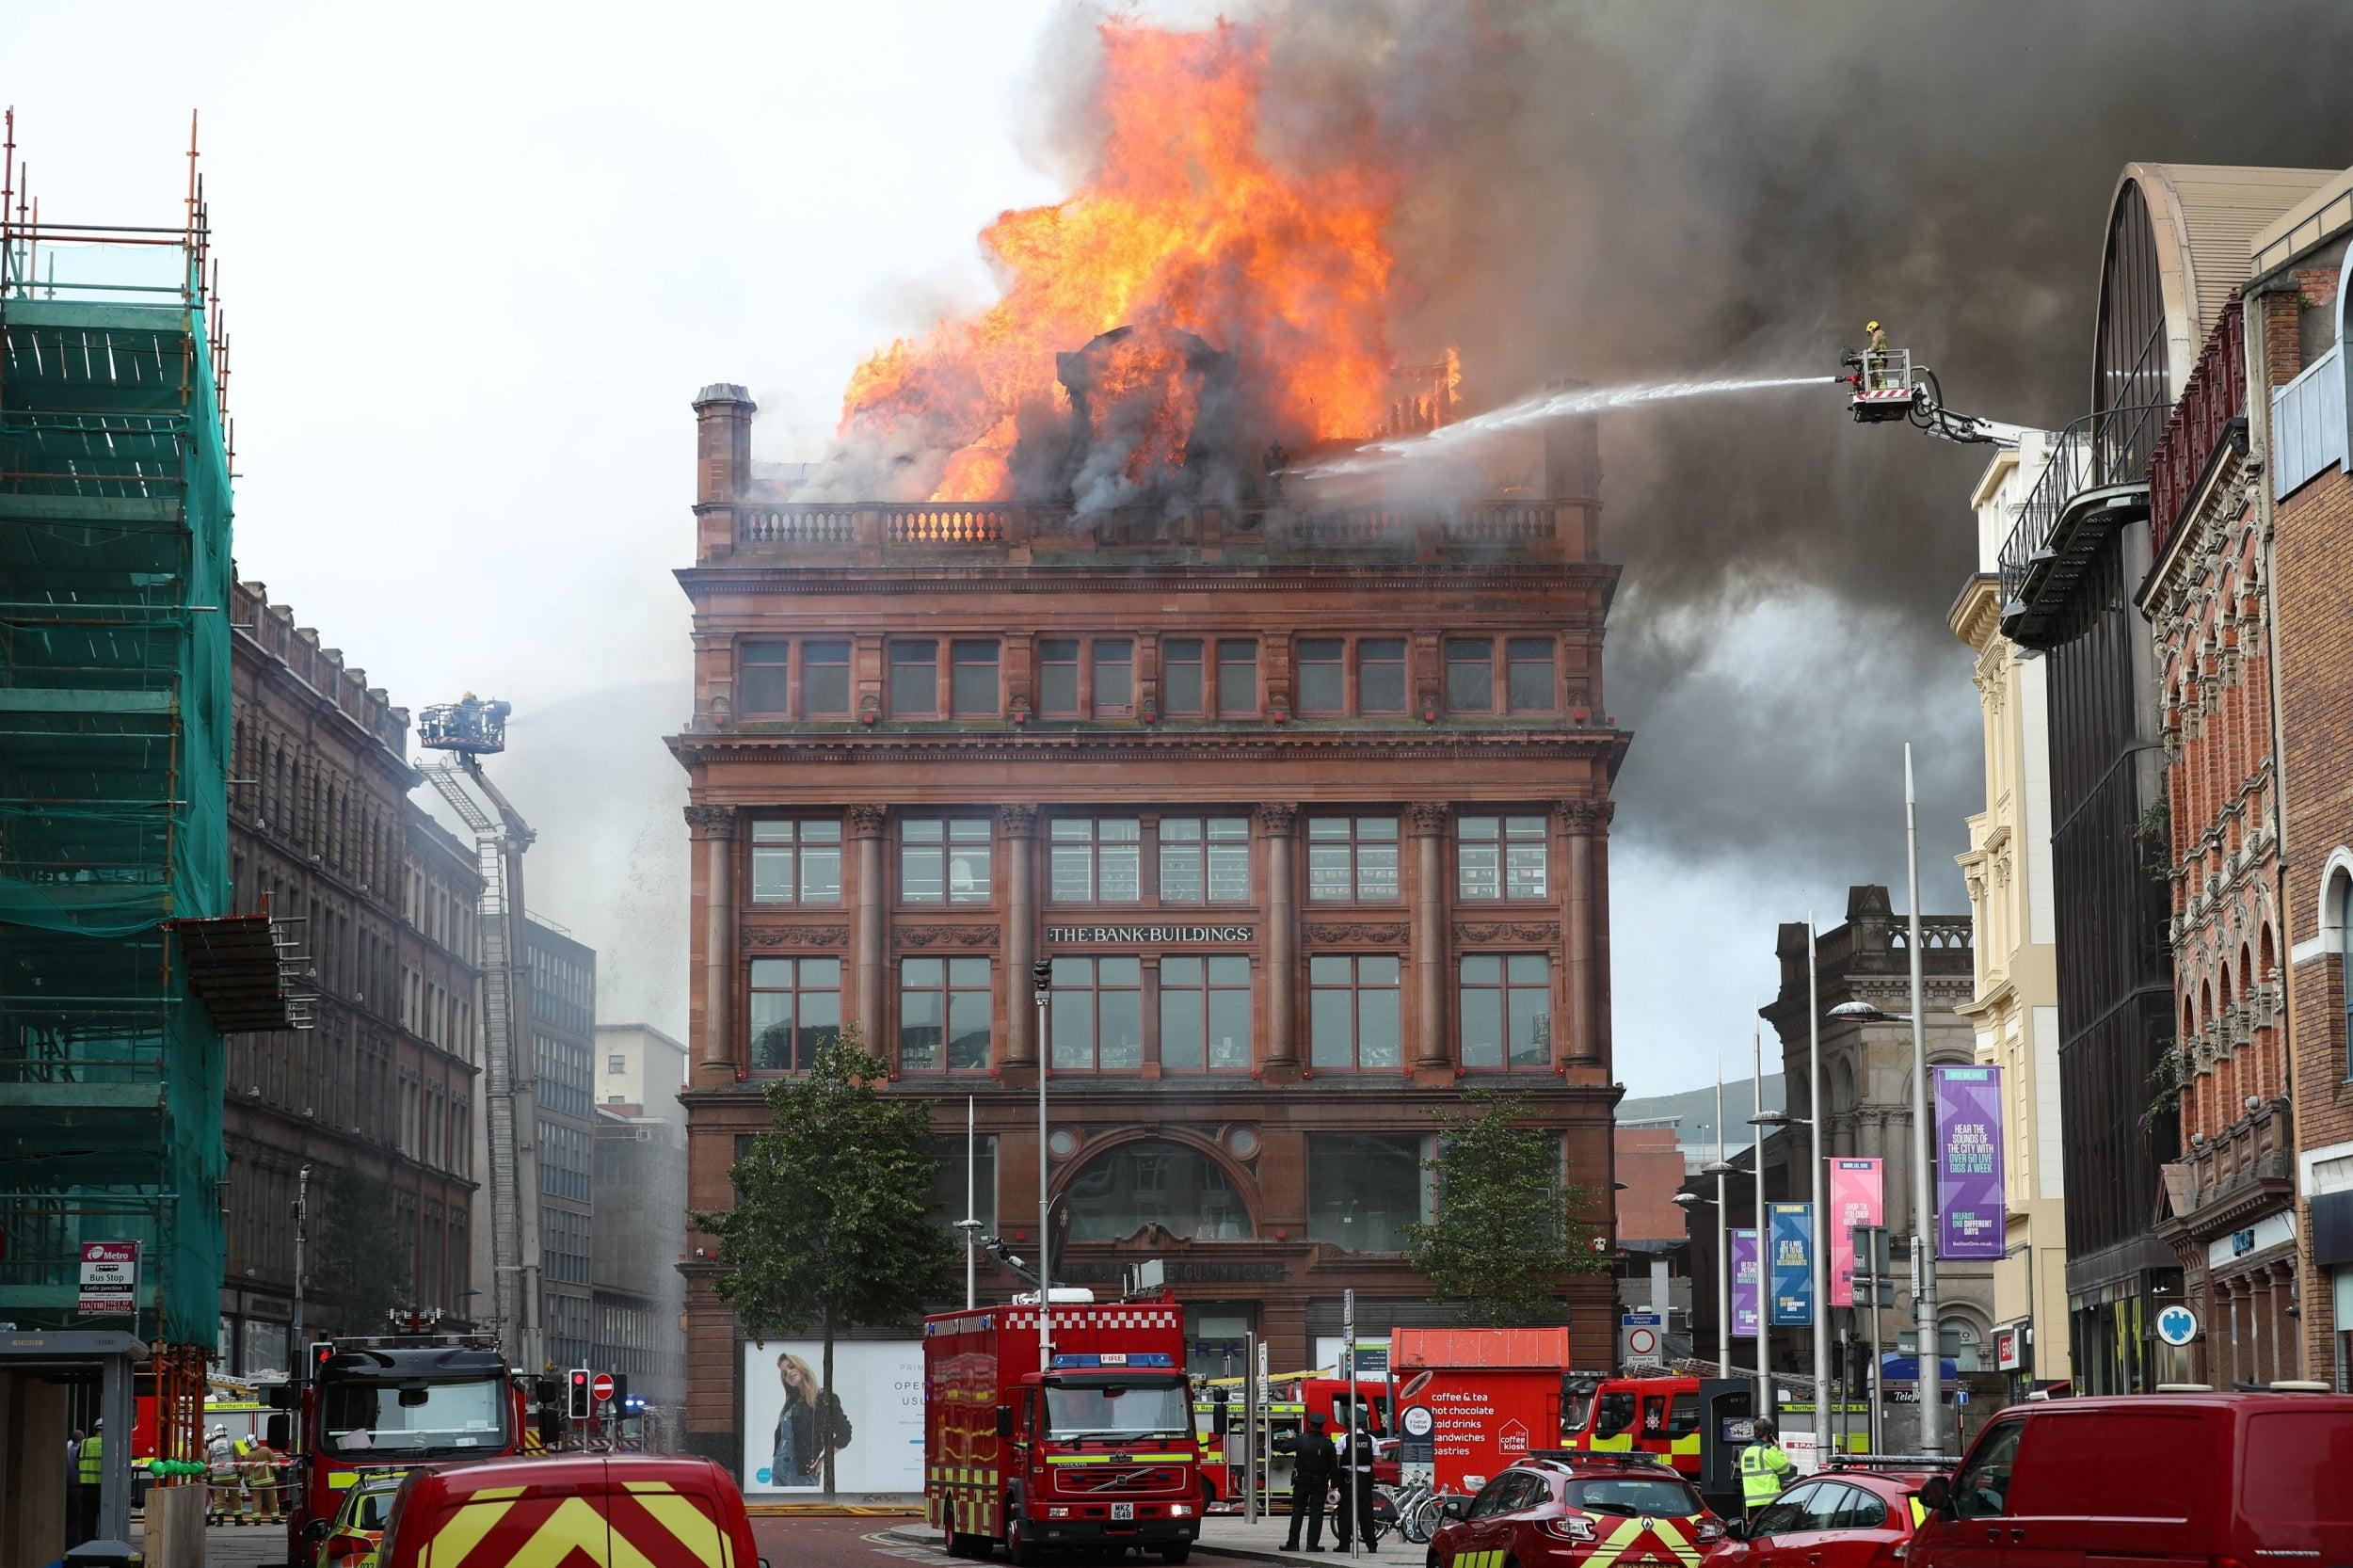Fire: (831, 30, 1478, 520)
